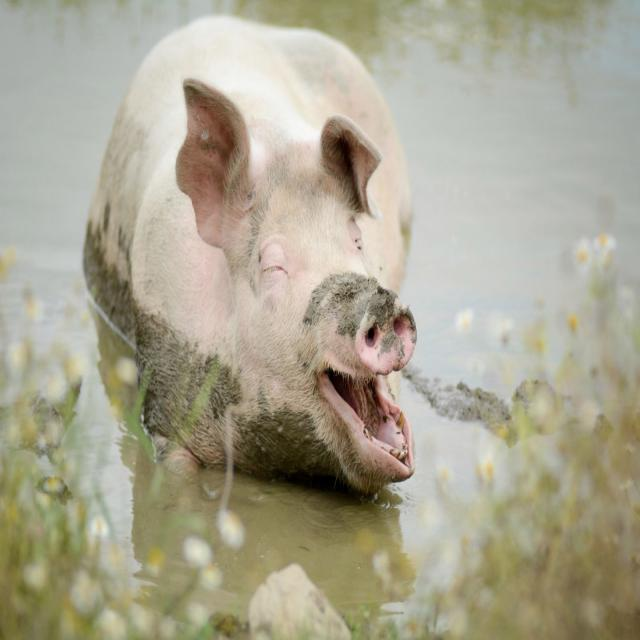pig: (84, 17, 417, 494)
